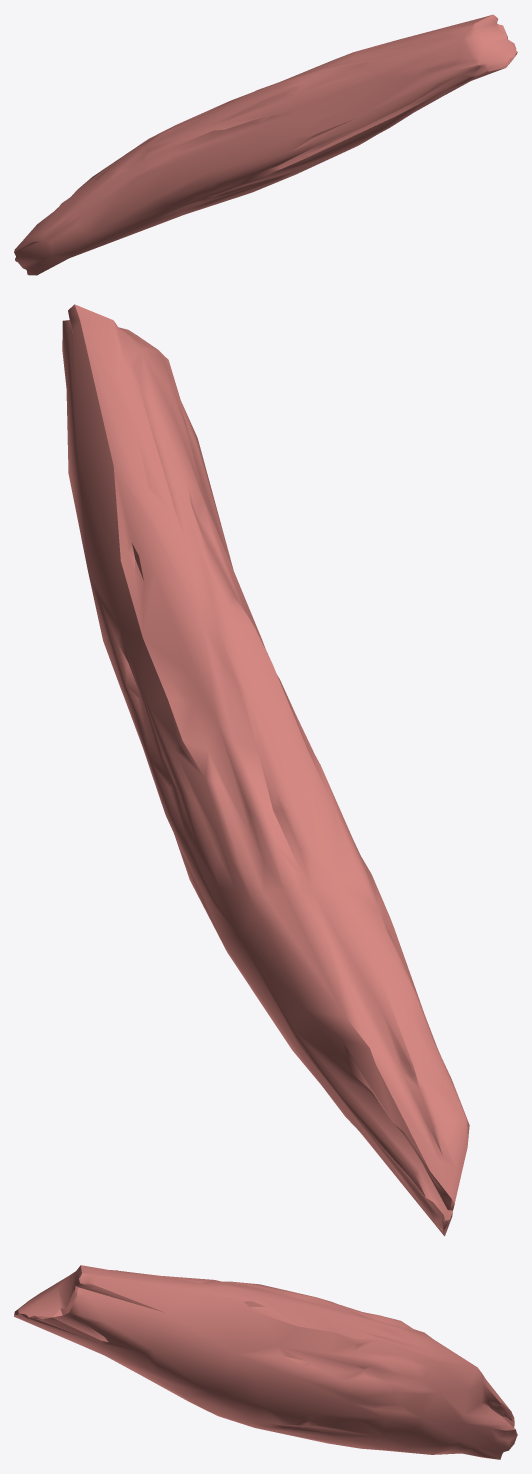
Rendered from fma32537_fj1563.glb.
3 renders of one model, top to bottom at view 1: azimuth 30°, elevation 25°; view 2: azimuth 150°, elevation 25°; view 3: azimuth 270°, elevation 25°, orthographic. The views are drawn at different scales.
Visible parts, largest first — view 1: FMA32537_FJ1563; view 2: FMA32537_FJ1563; view 3: FMA32537_FJ1563.
Boxes of the visible parts, <box> form: FMA32537_FJ1563: <box>14,14,517,275</box>; FMA32537_FJ1563: <box>62,304,469,1236</box>; FMA32537_FJ1563: <box>14,1265,517,1459</box>.
Bounding box in the file's own units: 0.042 × 0.0329 × 0.0356.
